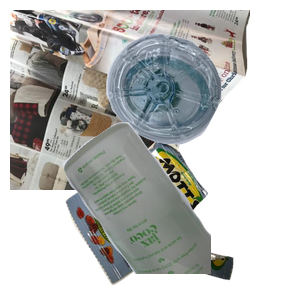glass: (60, 120, 300, 300)
paper: (10, 10, 250, 190)
plastic: (104, 31, 300, 168)
trash: (63, 137, 289, 300)
